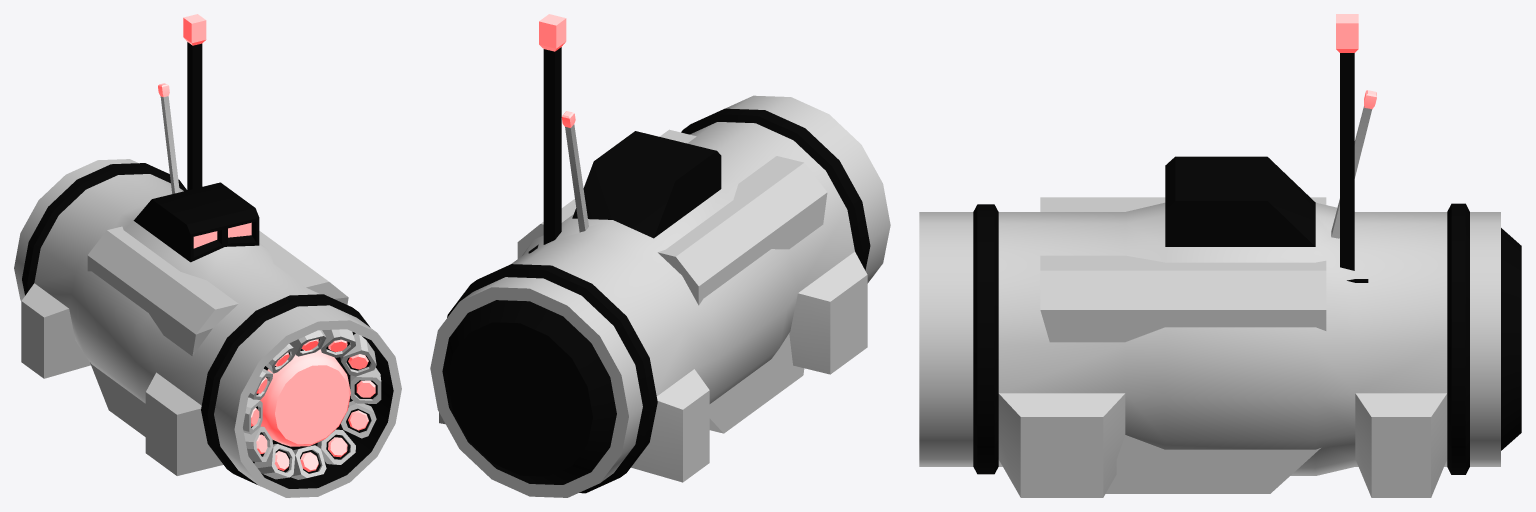
The model's file is Laser_Bot_Body.fbx.
The picture shows the model from 3 angles, left to right: view 1: azimuth 30°, elevation 25°; view 2: azimuth 150°, elevation 25°; view 3: azimuth 270°, elevation 25°; orthographic projection. The views are drawn at different scales.
Visible parts, largest first — view 1: Laser_Bot_Body, Bot_Head_01; view 2: Laser_Bot_Body, Bot_Head_01; view 3: Laser_Bot_Body, Bot_Head_01.
Part boxes in pixels (x1=…): Laser_Bot_Body: x1=14, y1=83, x2=401, y2=497; Bot_Head_01: x1=87, y1=14, x2=348, y2=436; Laser_Bot_Body: x1=430, y1=95, x2=890, y2=497; Bot_Head_01: x1=517, y1=14, x2=827, y2=433; Laser_Bot_Body: x1=919, y1=90, x2=1521, y2=497; Bot_Head_01: x1=1040, y1=14, x2=1368, y2=493.
Bounding box in the file's own units: 108 × 178 × 207.
